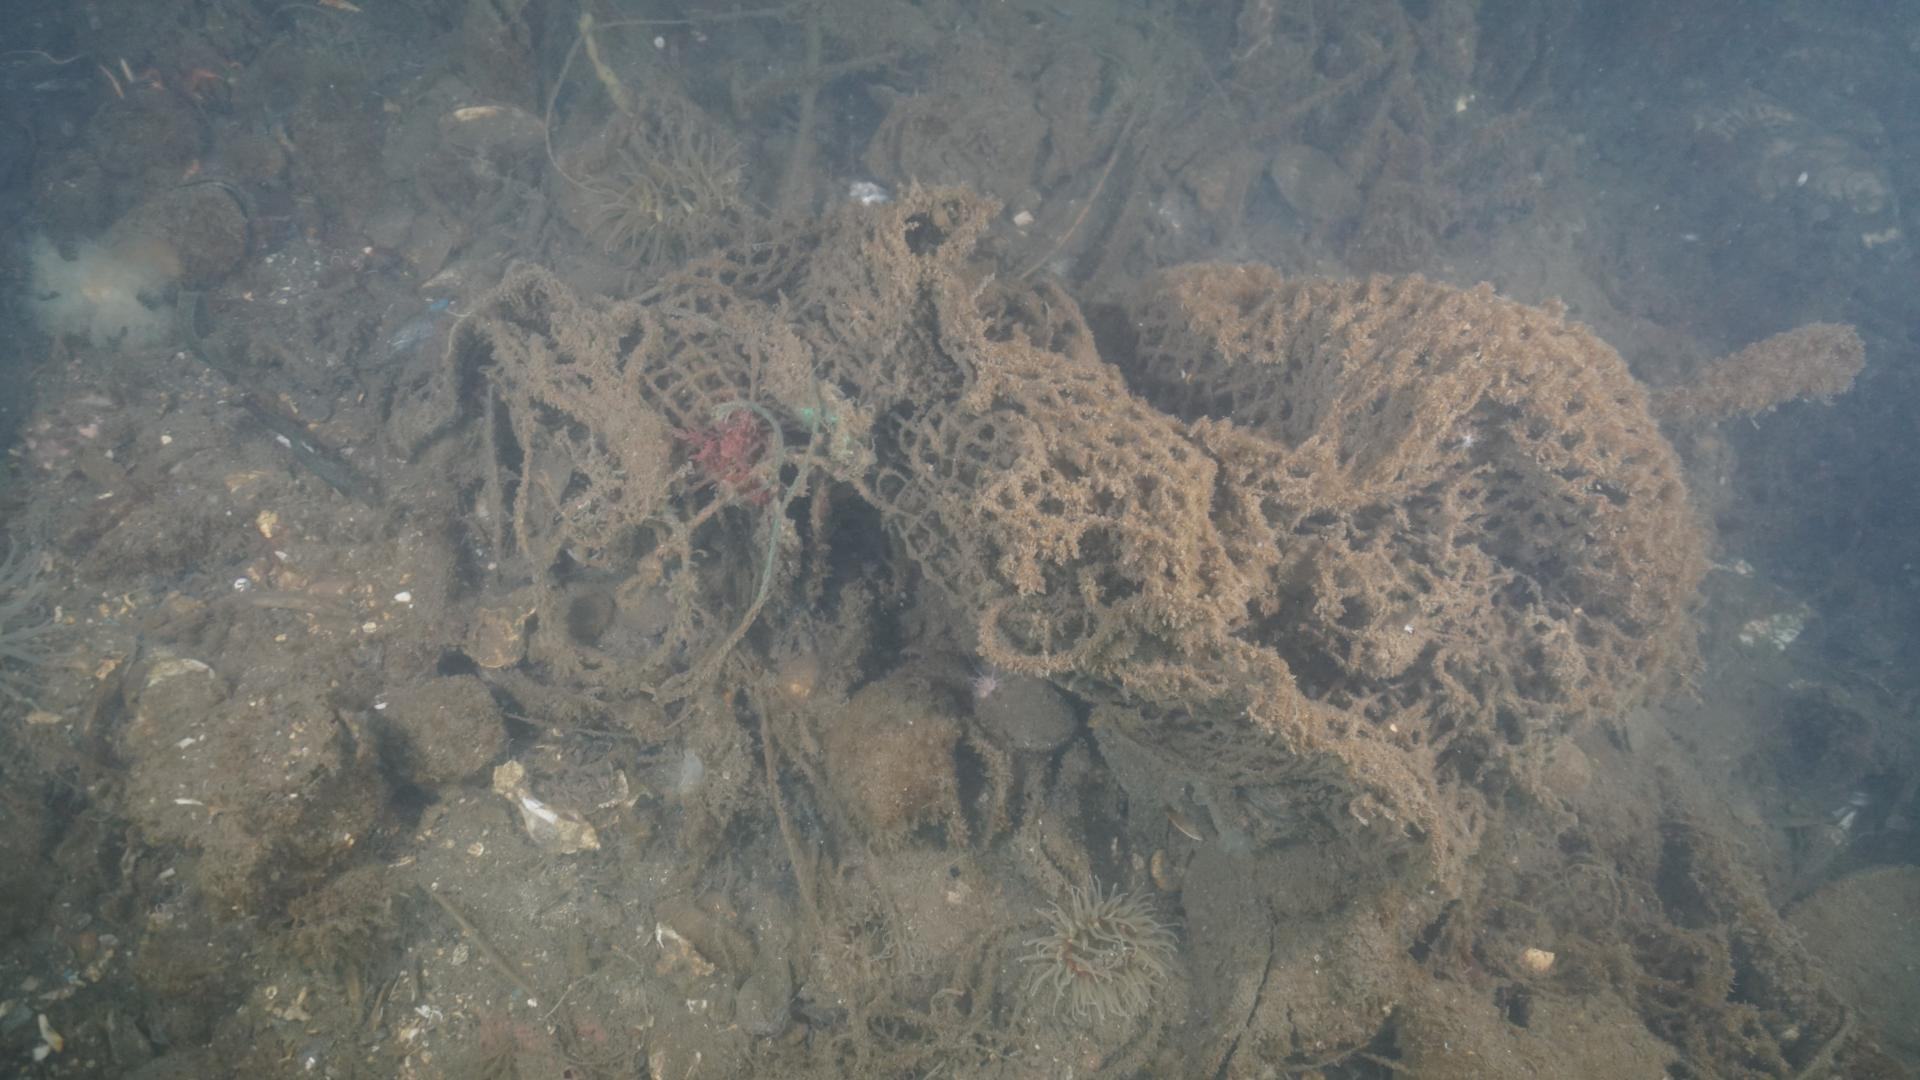fish net: (622, 200, 1706, 866)
